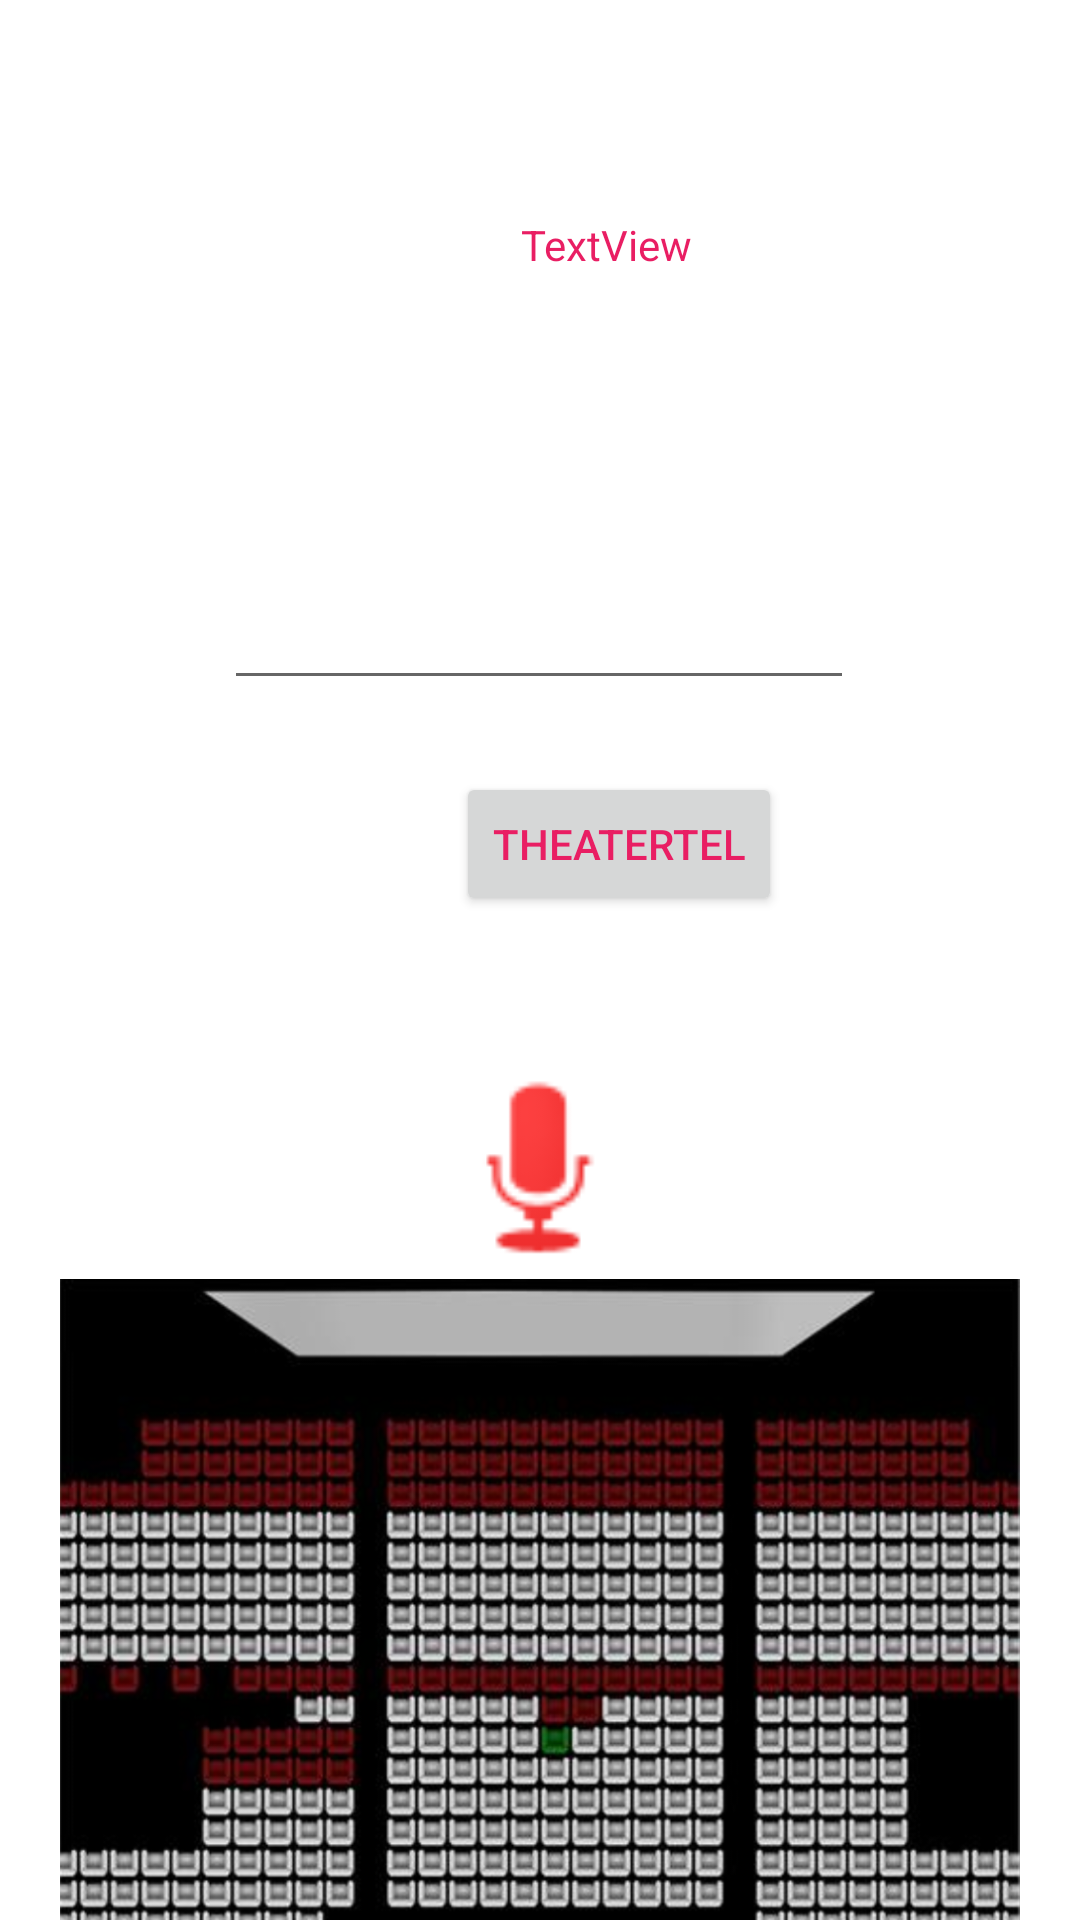

Locate icon controls on the screen. Image size 1080px×1920px, boxes as [x1, y1, x2, y2].
presence audio busy: [486, 1082, 593, 1253]
